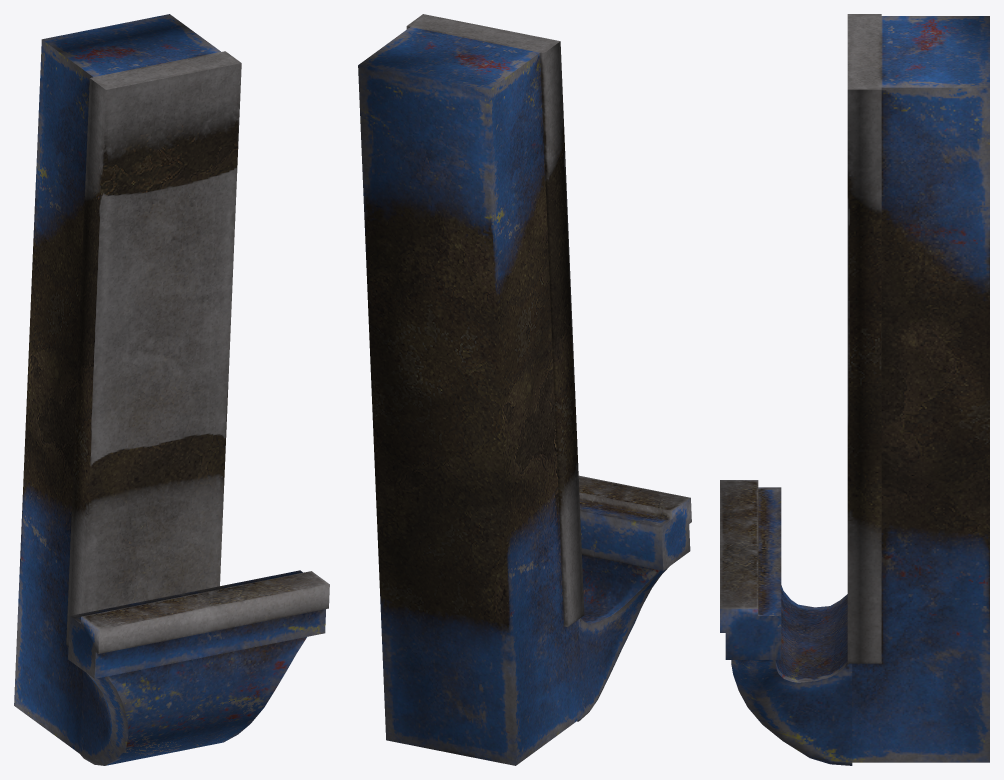
The model's file is Vice_Slide_low.obj.
3 views of the same model, side by side, from view 1: azimuth 30°, elevation 25°; view 2: azimuth 150°, elevation 25°; view 3: azimuth 270°, elevation 25° (orthographic). The views are drawn at different scales.
Bounding box in the file's own units: 0.1507 × 0.4154 × 0.145.
Materials: 1 (1 with a texture image).
